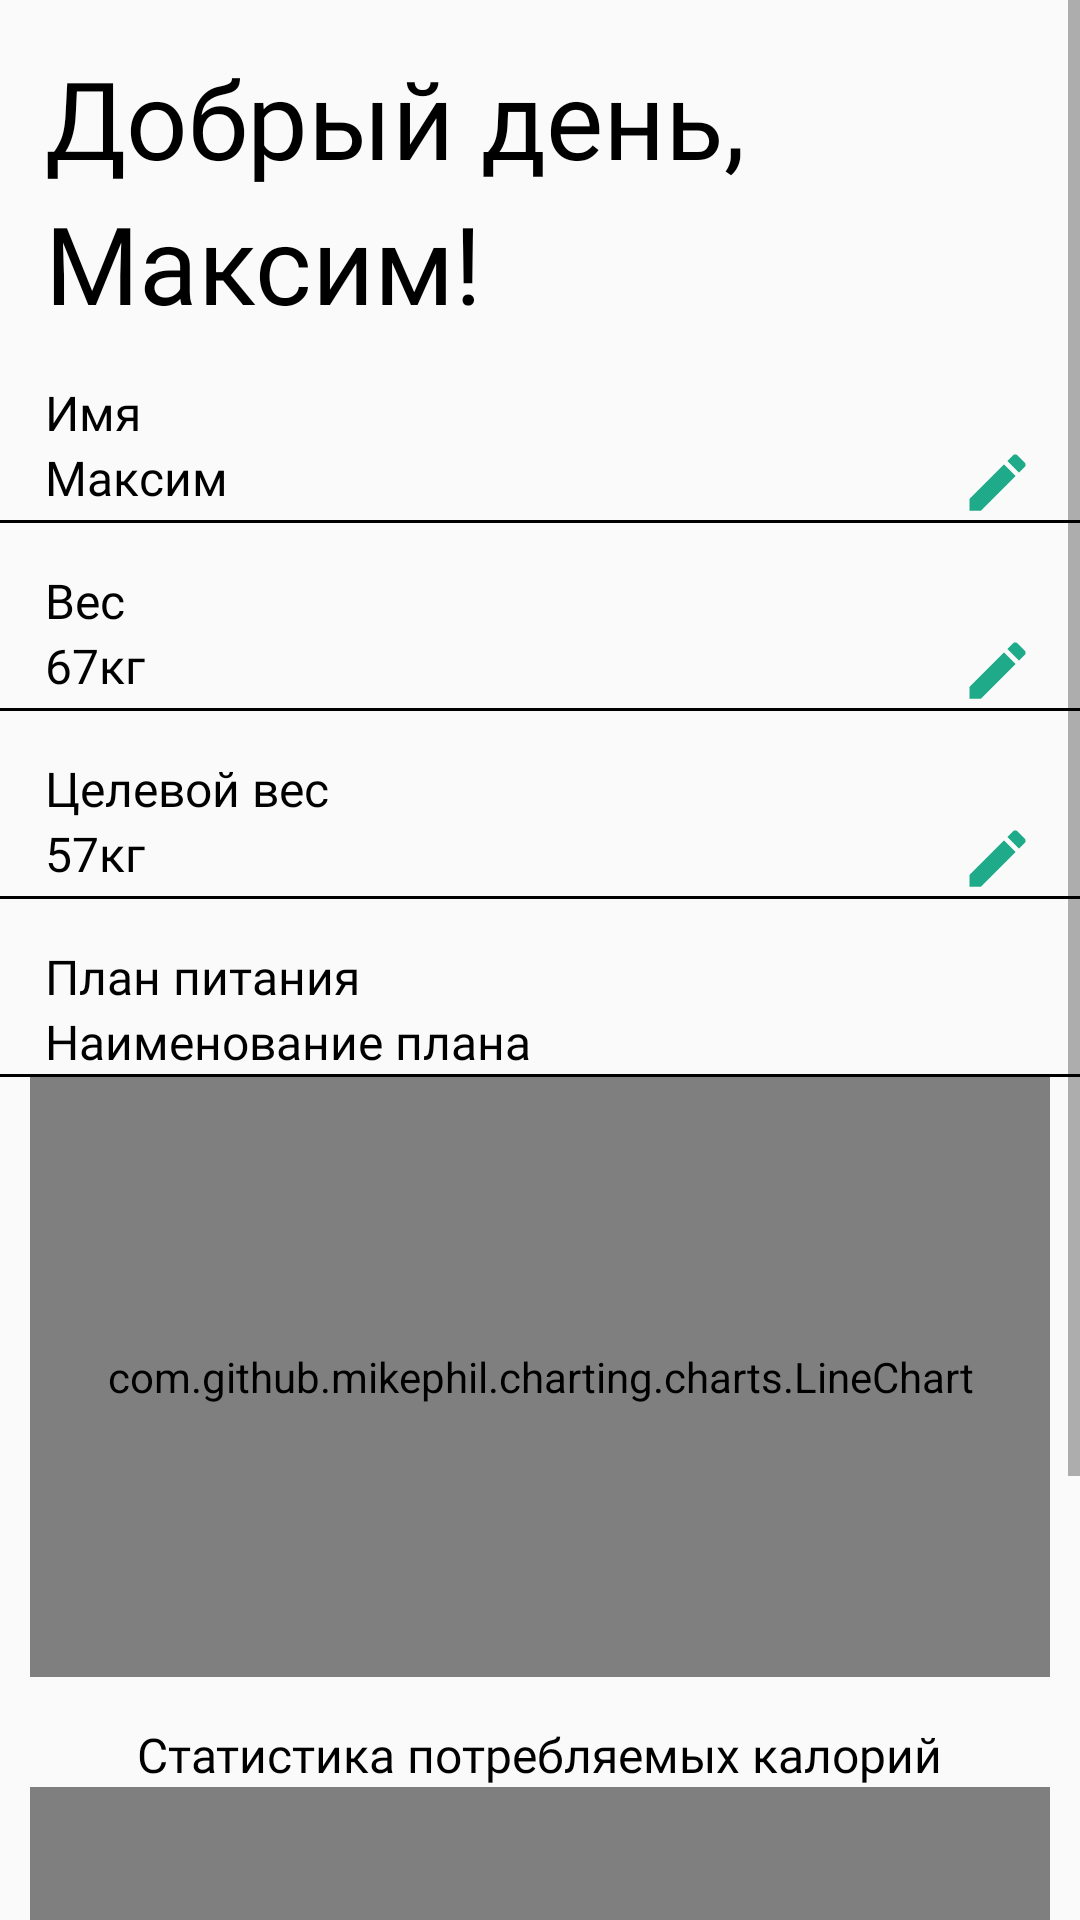

Icon bounding boxes for this 1080*1920 phone screenshot, format region(x1, y1, x2, y2):
edit: region(969, 454, 1026, 511), region(969, 642, 1026, 699), region(969, 830, 1026, 887)
